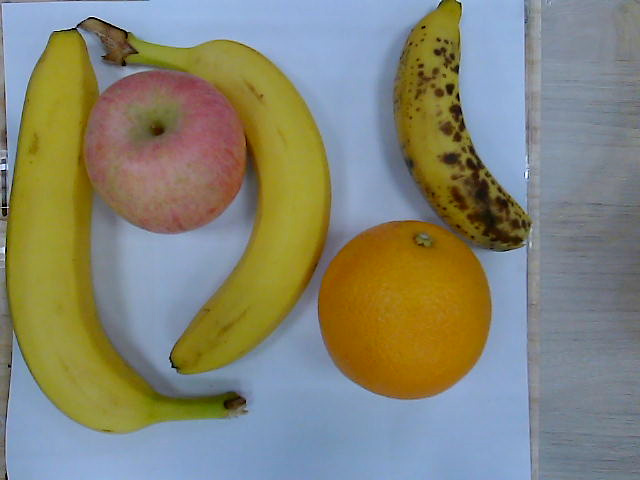fresh_apple: (83, 70, 249, 234)
fresh_banana: (7, 30, 159, 435), (170, 39, 333, 375)
fresh_orange: (317, 219, 493, 401)
rotten_banana: (394, 1, 535, 253)
